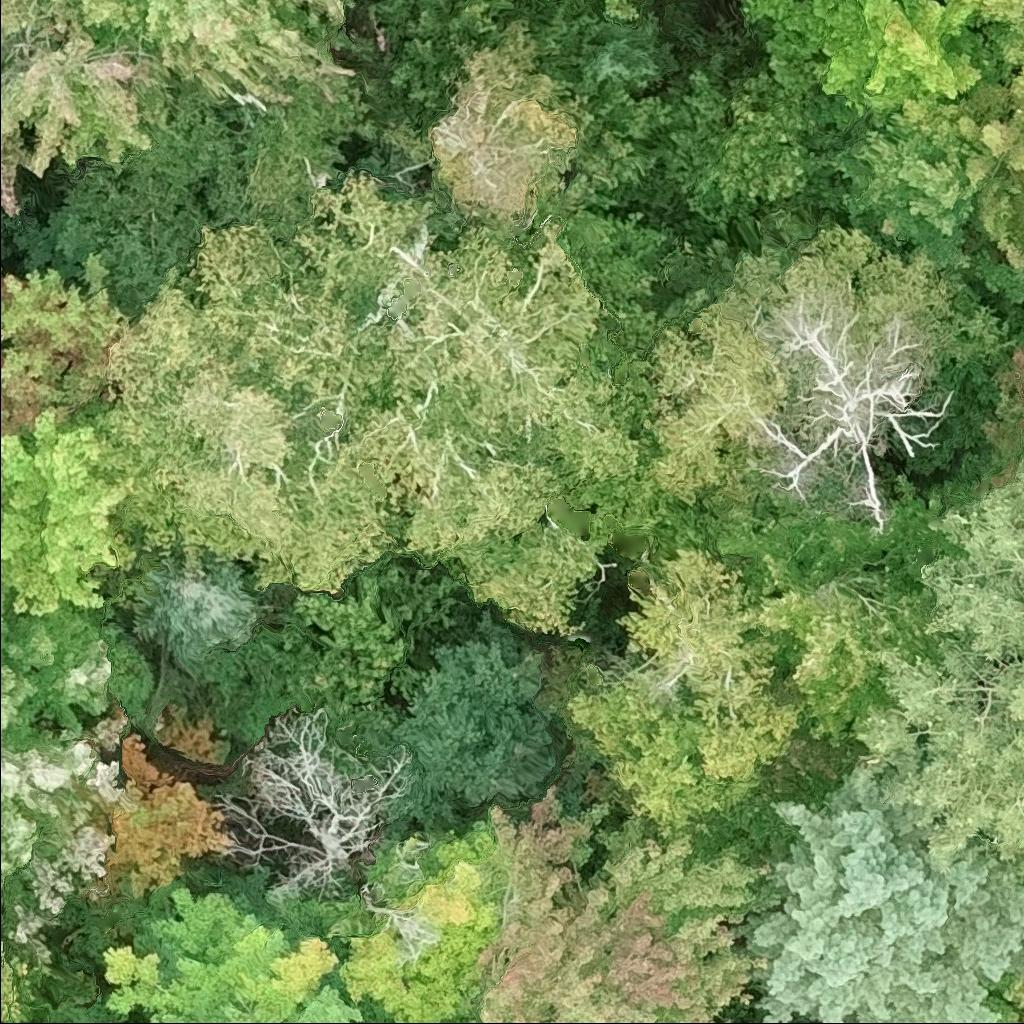crown: (93, 164, 667, 635), (562, 543, 936, 836), (642, 223, 952, 511), (439, 786, 780, 1023), (731, 766, 1023, 1023), (852, 453, 1023, 877), (0, 592, 152, 971), (99, 871, 387, 1023), (0, 0, 186, 212), (419, 12, 583, 251), (209, 709, 414, 898), (369, 609, 553, 806), (74, 0, 367, 118), (335, 821, 496, 1023), (0, 407, 140, 615), (0, 250, 134, 440), (775, 0, 994, 116), (94, 735, 238, 900), (125, 548, 276, 684), (954, 62, 1023, 240), (981, 342, 1023, 490), (970, 0, 1023, 81), (0, 888, 22, 1023), (737, 0, 797, 25)
